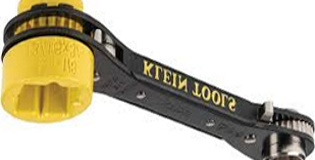Wrench: (3, 2, 315, 160)
